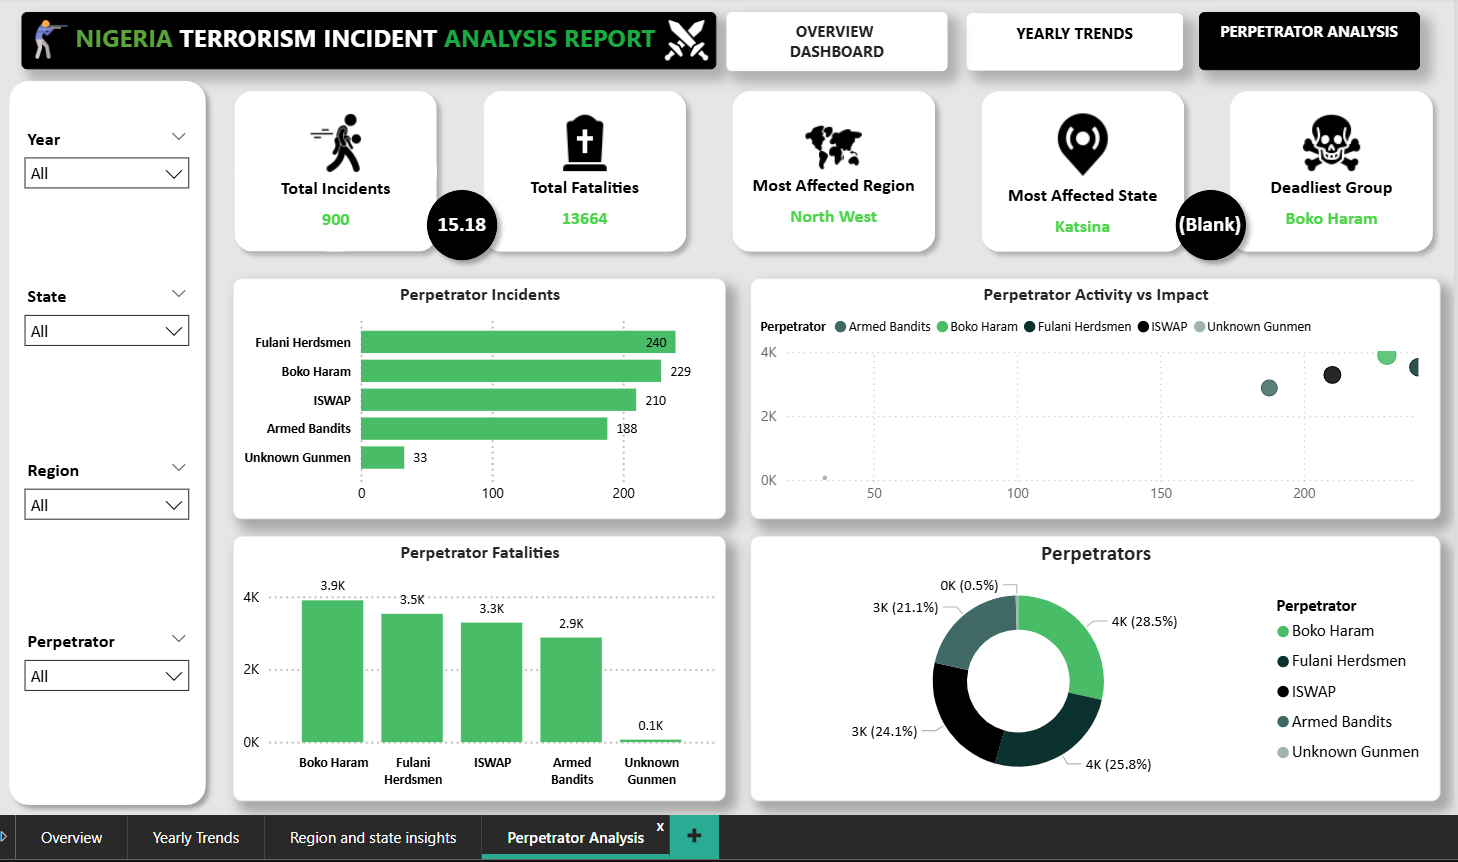

What the dashboard file says about the page in this screenshot:
{"tool":"powerbi","page":{"name":"Perpetrator Analysis","canvas":[1280,720],"ordinal":3},"visuals":[{"type":"clusteredBarChart","title":"Perpetrator Incidents","fields":{"Category":["nigeria_security_incidents.Perpetrator"],"Y":["nigeria_security_incidents.Total Incidents"]},"box":[205.8,247.7,433.7,211.6],"z":0},{"type":"textbox","box":[19.8,13.2,611.4,50.6],"z":1000},{"type":"image","box":[19.8,12.1,52.8,50.6],"z":2000},{"type":"image","box":[578.1,12.4,53.1,51.9],"z":3000},{"type":"shape","box":[0,64.4,190.8,654.9],"z":4000},{"type":"slicer","fields":{"Values":["nigeria_security_incidents.year"]},"box":[12.4,109.5,164.9,72.3],"z":5000},{"type":"slicer","fields":{"Values":["nigeria_security_incidents.state"]},"box":[12.4,248.4,164.9,75.7],"z":6000},{"type":"slicer","fields":{"Values":["nigeria_security_incidents.region"]},"box":[12.4,400.8,164.9,73.4],"z":7000},{"type":"slicer","fields":{"Values":["nigeria_security_incidents.perpetrator"]},"box":[12.4,552.2,164.9,88.1],"z":8000},{"type":"textbox","box":[851.2,14,190.7,50],"z":9000},{"type":"textbox","box":[640,13.2,194.6,51.7],"z":10000},{"type":"textbox","box":[1055.8,12.8,194.2,51.2],"z":11000},{"type":"cardVisual","fields":{"Data":["nigeria_security_incidents.Total Incidents","Sum(nigeria_security_incidents.killed)","nigeria_security_incidents.Most Affected Region","nigeria_security_incidents.Most Affected State","nigeria_security_incidents.Deadliest Grou"]},"box":[190.4,65.5,1089.6,175],"z":12000},{"type":"shape","box":[367,160.3,80.2,80.2],"z":13000},{"type":"shape","box":[1026.4,160.3,80.2,80.2],"z":14000},{"type":"card","fields":{"Values":["nigeria_security_incidents.Average Fatalities Per Attack"]},"box":[370.4,173.9,73.4,53.1],"z":15000},{"type":"card","fields":{"Values":["yearly_incidents_summary.YoY Incidents %"]},"box":[1024.1,178.4,83.6,45.2],"z":16000},{"type":"clusteredColumnChart","title":"Perpetrator Fatalities","fields":{"Category":["nigeria_security_incidents.Perpetrator"],"Y":["Sum(nigeria_security_incidents.killed)"]},"box":[205.8,474.4,433.7,233.7],"z":17000},{"type":"scatterChart","title":"Perpetrator Activity vs Impact","fields":{"X":["nigeria_security_incidents.Total Incidents"],"Y":["Sum(nigeria_security_incidents.killed)"],"Series":["nigeria_security_incidents.Perpetrator"],"Size":["Sum(nigeria_security_incidents.killed)"]},"box":[660.5,247.7,607,211.6],"z":18000},{"type":"donutChart","title":"Perpetrators","fields":{"Category":["nigeria_security_incidents.perpetrator"],"Y":["Sum(nigeria_security_incidents.killed)"]},"box":[660.5,474.4,607,233.7],"z":19000}]}

Visuals, with their boxes on the page's 1280x720 design canvas (x1, y1, x2, y2). These are canvas units, not pixel positions in the 1458x862 screenshot, which may show the page scaled, cropped or inside an application window:
"Perpetrator Incidents" clusteredBarChart: {"x1": 206, "y1": 248, "x2": 640, "y2": 459}
textbox: {"x1": 20, "y1": 13, "x2": 631, "y2": 64}
image: {"x1": 20, "y1": 12, "x2": 73, "y2": 63}
image: {"x1": 578, "y1": 12, "x2": 631, "y2": 64}
shape: {"x1": 0, "y1": 64, "x2": 191, "y2": 719}
slicer - nigeria_security_incidents.year: {"x1": 12, "y1": 110, "x2": 177, "y2": 182}
slicer - nigeria_security_incidents.state: {"x1": 12, "y1": 248, "x2": 177, "y2": 324}
slicer - nigeria_security_incidents.region: {"x1": 12, "y1": 401, "x2": 177, "y2": 474}
slicer - nigeria_security_incidents.perpetrator: {"x1": 12, "y1": 552, "x2": 177, "y2": 640}
textbox: {"x1": 851, "y1": 14, "x2": 1042, "y2": 64}
textbox: {"x1": 640, "y1": 13, "x2": 835, "y2": 65}
textbox: {"x1": 1056, "y1": 13, "x2": 1250, "y2": 64}
cardVisual - nigeria_security_incidents.Total Incidents x Sum(nigeria_security_incidents.killed): {"x1": 190, "y1": 66, "x2": 1280, "y2": 240}
shape: {"x1": 367, "y1": 160, "x2": 447, "y2": 240}
shape: {"x1": 1026, "y1": 160, "x2": 1107, "y2": 240}
card - nigeria_security_incidents.Average Fatalities Per Attack: {"x1": 370, "y1": 174, "x2": 444, "y2": 227}
card - yearly_incidents_summary.YoY Incidents %: {"x1": 1024, "y1": 178, "x2": 1108, "y2": 224}
"Perpetrator Fatalities" clusteredColumnChart: {"x1": 206, "y1": 474, "x2": 640, "y2": 708}
"Perpetrator Activity vs Impact" scatterChart: {"x1": 660, "y1": 248, "x2": 1268, "y2": 459}
"Perpetrators" donutChart: {"x1": 660, "y1": 474, "x2": 1268, "y2": 708}
